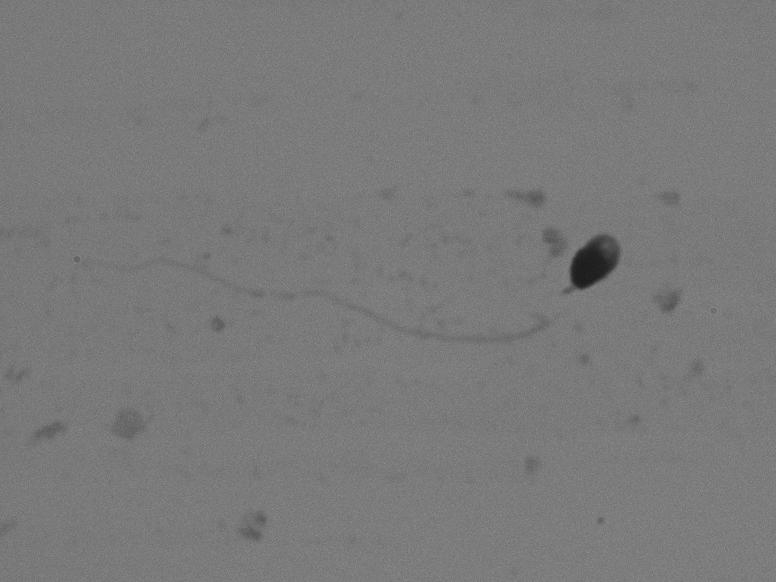Abnormal: (29, 148, 680, 471)
